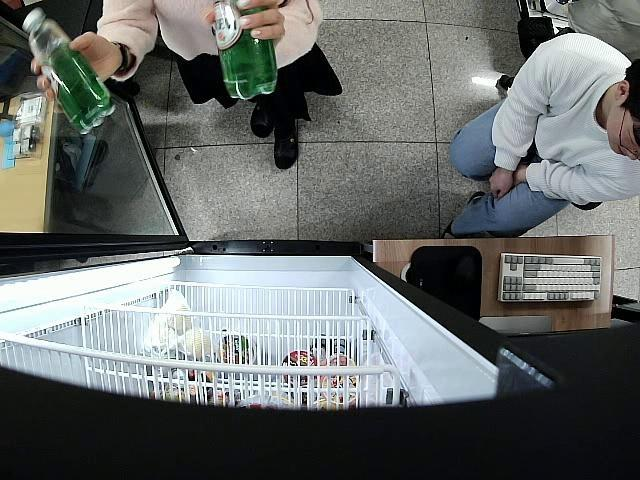18_trevi: (23, 9, 118, 134), (209, 0, 278, 102)
